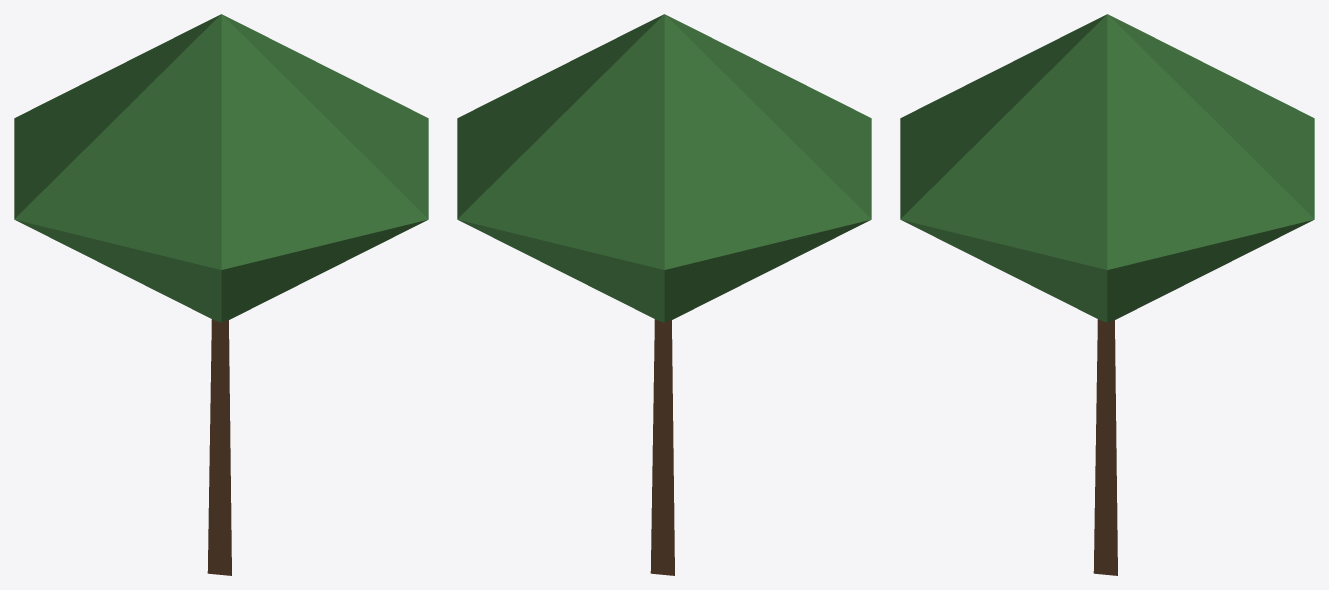
Rendered from paletuvier_loin.glb.
The picture shows the model from 3 angles, left to right: view 1: azimuth 30°, elevation 25°; view 2: azimuth 150°, elevation 25°; view 3: azimuth 270°, elevation 25°; orthographic projection.
Visible parts, largest first — view 1: paletuvier_loin; view 2: paletuvier_loin; view 3: paletuvier_loin.
Boxes of the visible parts, x1,y1,x2,y2 form: paletuvier_loin: [14, 14, 428, 575]; paletuvier_loin: [457, 14, 871, 575]; paletuvier_loin: [900, 14, 1314, 575].
Size of the model in its own units: 5.6 by 7.2 by 4.85.
Materials: 1 (1 with a texture image).
